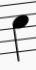note: (8, 2, 30, 63)
